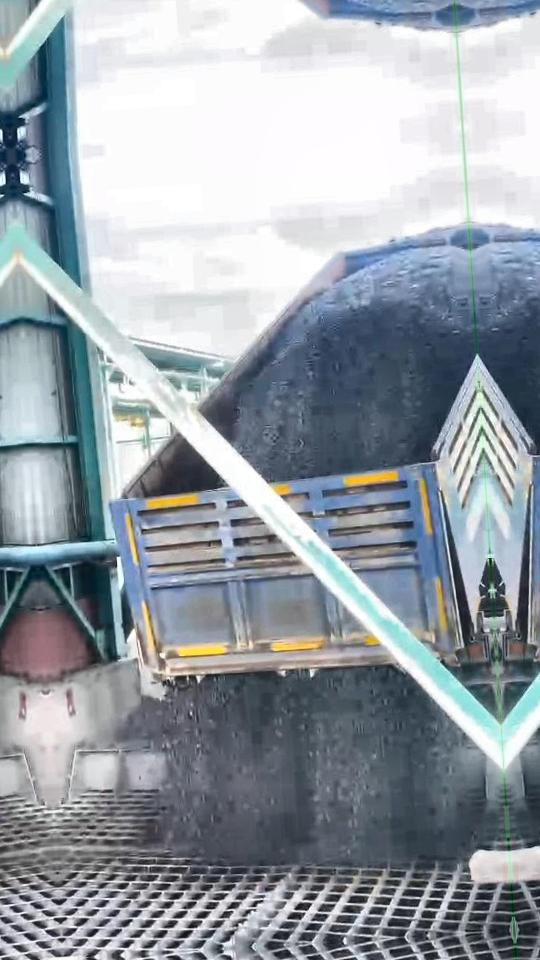gravel: (123, 667, 482, 864), (233, 247, 474, 480)
